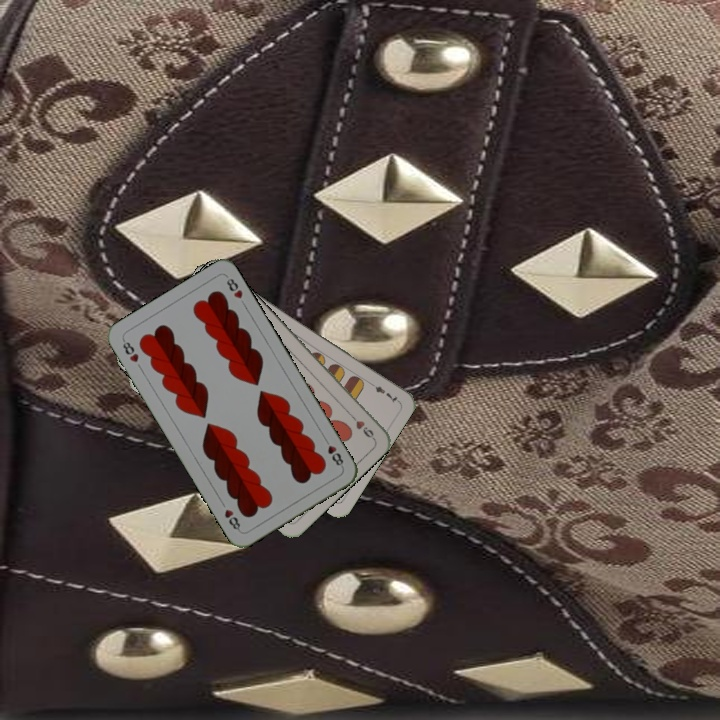E7: (365, 378, 401, 405)
H8: (320, 434, 346, 470), (118, 336, 141, 365)
H9: (345, 409, 377, 442)
